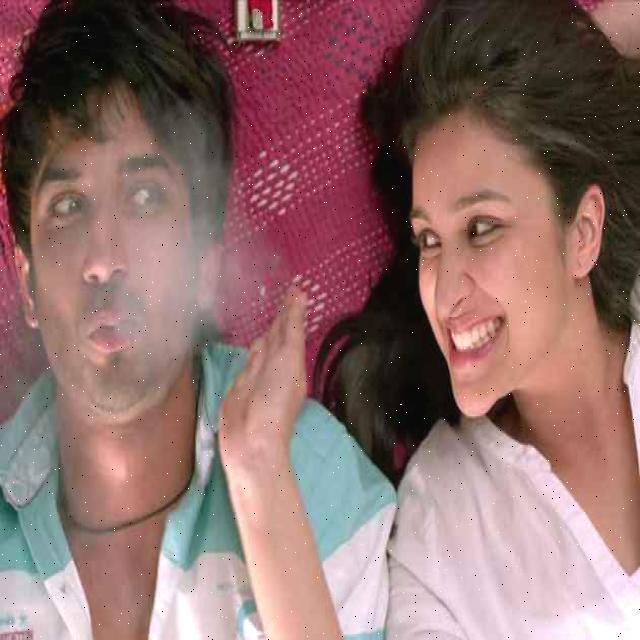smoke: (114, 105, 272, 360)
